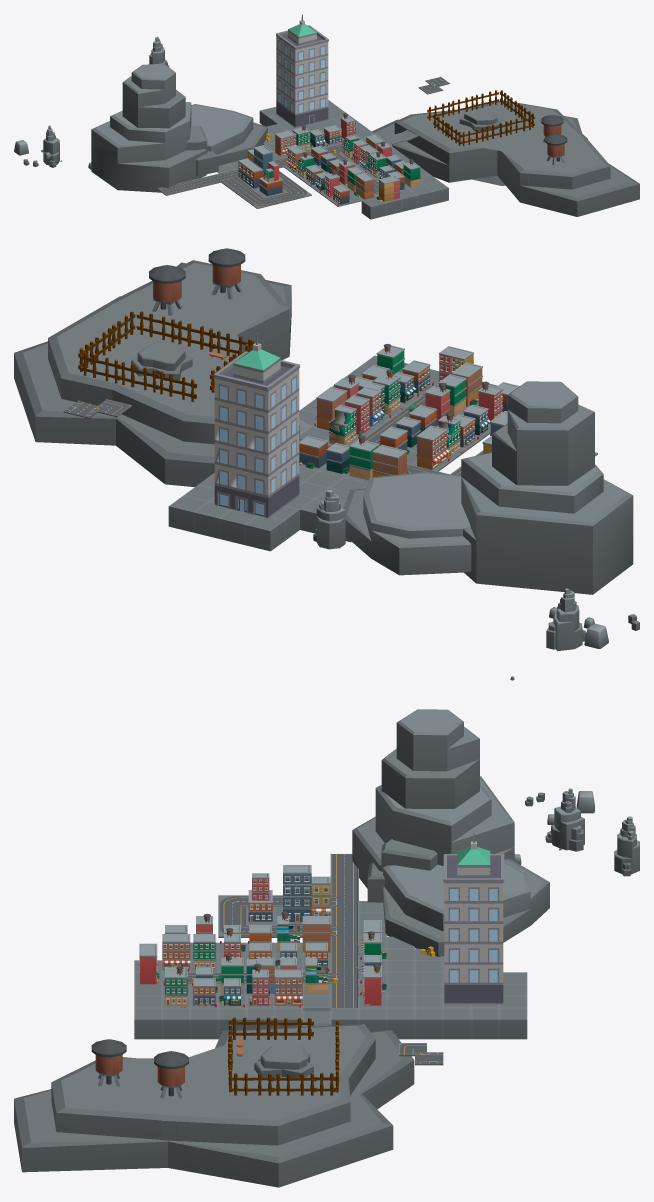
File: new_city_0617.fbx
3 views of the same model, one above another, from view 1: azimuth 30°, elevation 25°; view 2: azimuth 150°, elevation 25°; view 3: azimuth 270°, elevation 25° (orthographic). The views are drawn at different scales.
Parts seen in each view (by area): view 1: Rock_1_A_Color1.001, Rock_1_D_Color1, skyscraperE, Rock_1_F_Color1, Rock_1_G_Color1, building_H, Rock_1_B_Color1, Rock_1_A_Color1.002, building_F, Rock_1_Q_Color1, watertower.001, building_E (+18 smaller); view 2: Rock_1_A_Color1.001, Rock_1_D_Color1, skyscraperE, Rock_1_G_Color1, Rock_1_F_Color1, Rock_1_Q_Color1, Rock_1_A_Color1.002, Rock_1_P_Color1, watertower, watertower.001, building_E.004, base.070 (+20 smaller); view 3: Rock_1_A_Color1.001, skyscraperE, Rock_1_F_Color1, Rock_1_D_Color1, Rock_1_G_Color1, building_H, Rock_1_B_Color1, Rock_1_Q_Color1, Rock_1_A_Color1.002, watertower.001, watertower, Rock_1_P_Color1 (+20 smaller).
Boxes of the visible parts, left/top/right/bottom form: Rock_1_A_Color1.001: left=372, top=100, right=639, bottom=216; Rock_1_D_Color1: left=91, top=102, right=206, bottom=192; skyscraperE: left=276, top=14, right=328, bottom=127; Rock_1_F_Color1: left=122, top=64, right=185, bottom=128; Rock_1_G_Color1: left=191, top=104, right=267, bottom=165; building_H: left=237, top=145, right=272, bottom=189; Rock_1_B_Color1: left=186, top=126, right=218, bottom=175; Rock_1_A_Color1.002: left=459, top=108, right=501, bottom=131; building_F: left=378, top=175, right=401, bottom=203; Rock_1_Q_Color1: left=43, top=125, right=62, bottom=167; watertower.001: left=544, top=134, right=567, bottom=165; building_E: left=353, top=172, right=376, bottom=199; Rock_1_A_Color1.001: left=14, top=260, right=291, bottom=486; Rock_1_D_Color1: left=461, top=452, right=633, bottom=594; skyscraperE: left=214, top=333, right=299, bottom=518; Rock_1_G_Color1: left=343, top=472, right=471, bottom=575; Rock_1_F_Color1: left=492, top=381, right=594, bottom=485; Rock_1_Q_Color1: left=546, top=588, right=586, bottom=651; Rock_1_A_Color1.002: left=131, top=340, right=192, bottom=380; Rock_1_P_Color1: left=313, top=490, right=345, bottom=549; watertower: left=149, top=265, right=185, bottom=315; watertower.001: left=208, top=248, right=245, bottom=299; building_E.004: left=412, top=425, right=451, bottom=471; base.070: left=245, top=515, right=285, bottom=551; Rock_1_A_Color1.001: left=14, top=1024, right=414, bottom=1187; skyscraperE: left=443, top=832, right=504, bottom=1004; Rock_1_F_Color1: left=381, top=709, right=479, bottom=808; Rock_1_D_Color1: left=352, top=776, right=514, bottom=888; Rock_1_G_Color1: left=383, top=858, right=549, bottom=956; building_H: left=283, top=865, right=330, bottom=924; Rock_1_B_Color1: left=367, top=839, right=437, bottom=902; Rock_1_Q_Color1: left=545, top=788, right=584, bottom=851; Rock_1_A_Color1.002: left=254, top=1045, right=313, bottom=1077; watertower.001: left=91, top=1039, right=126, bottom=1086; watertower: left=154, top=1051, right=188, bottom=1098; Rock_1_P_Color1: left=614, top=816, right=639, bottom=876.
Bounding box in the file's own units: 5986 × 1526 × 4460.
Materials: 194 (183 with a texture image).
